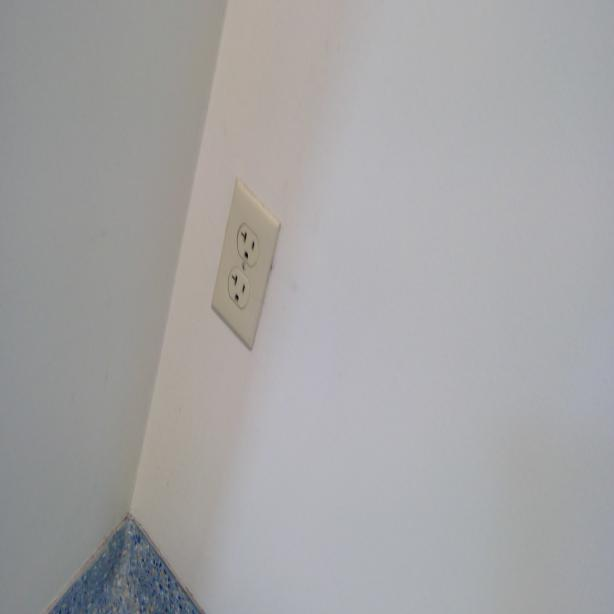typeb: (228, 266, 251, 306), (237, 226, 260, 260)
